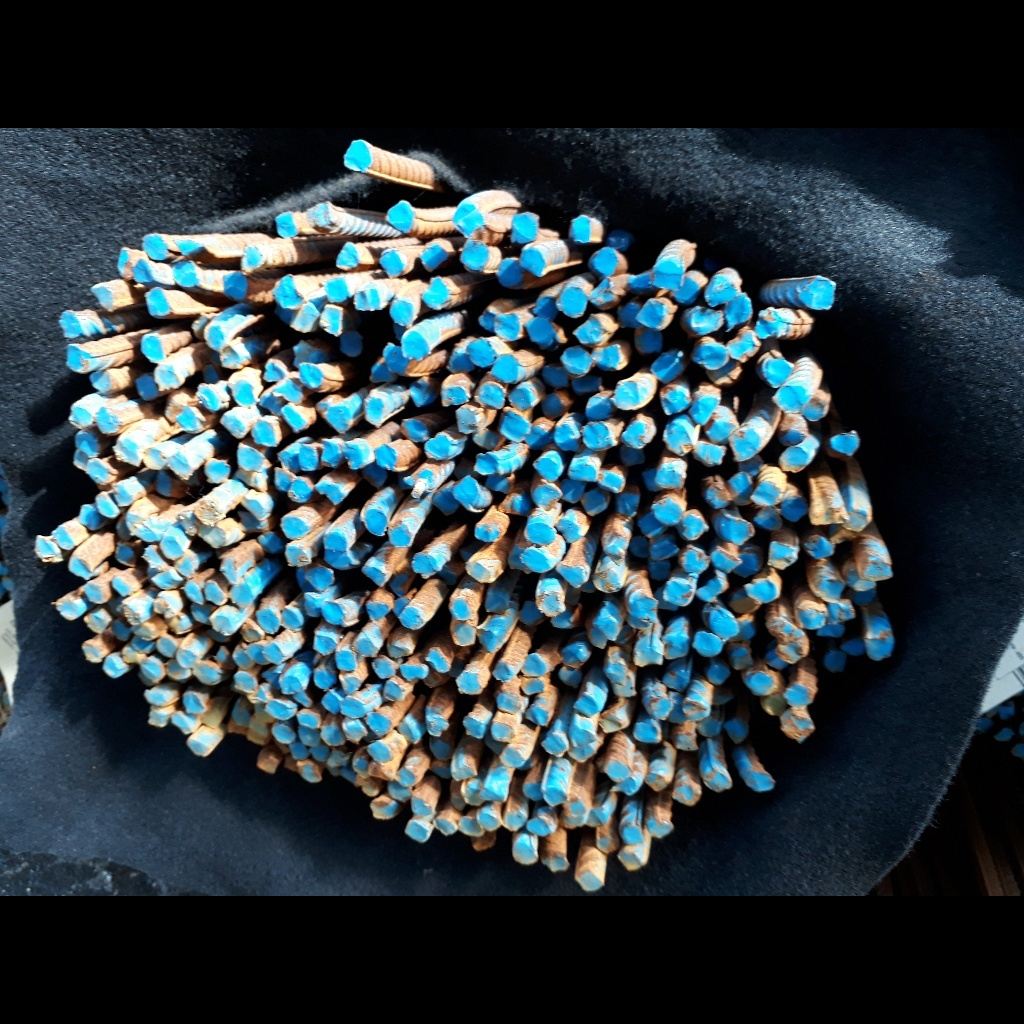dipstick: (769, 619, 810, 664), (799, 274, 837, 312), (689, 384, 722, 427), (704, 405, 740, 442), (636, 299, 678, 330), (727, 326, 763, 362), (754, 307, 792, 340), (593, 603, 625, 642), (673, 271, 709, 305), (611, 380, 649, 411), (696, 569, 730, 603), (272, 275, 305, 309), (724, 291, 752, 331), (703, 275, 738, 307), (685, 306, 723, 335), (728, 428, 761, 461), (692, 342, 729, 371), (280, 401, 317, 430), (555, 287, 587, 319), (499, 411, 531, 443), (344, 440, 377, 471), (649, 354, 684, 383), (571, 315, 606, 344), (237, 444, 272, 473), (659, 385, 691, 416), (722, 515, 755, 545), (569, 215, 602, 245), (524, 318, 557, 348), (781, 713, 815, 742), (621, 420, 655, 449), (560, 347, 594, 376), (112, 478, 146, 507), (727, 470, 755, 505), (778, 413, 809, 444), (508, 213, 539, 244), (762, 358, 794, 388), (662, 424, 692, 456), (589, 343, 623, 371), (387, 198, 415, 232), (773, 386, 808, 413), (692, 441, 727, 468), (767, 540, 798, 570), (113, 438, 144, 468), (489, 355, 521, 384), (460, 238, 489, 270), (710, 546, 743, 574), (677, 544, 710, 572), (241, 493, 275, 520), (433, 482, 459, 517), (289, 303, 319, 333), (588, 247, 619, 276), (467, 338, 498, 367), (343, 140, 372, 171), (588, 275, 616, 307), (194, 496, 226, 524), (518, 247, 547, 277), (453, 477, 482, 507), (89, 281, 117, 312), (399, 417, 431, 444), (650, 264, 683, 290), (803, 391, 831, 421), (423, 279, 451, 309), (219, 409, 247, 439), (54, 597, 89, 621), (830, 430, 861, 457), (678, 514, 709, 541), (87, 458, 118, 485), (803, 535, 835, 561), (236, 467, 268, 493), (581, 424, 614, 449), (743, 580, 777, 604), (661, 632, 690, 660), (397, 715, 425, 744), (334, 242, 362, 271), (251, 419, 279, 448), (221, 271, 249, 300), (731, 586, 761, 613), (554, 423, 581, 453), (492, 313, 522, 340), (402, 330, 429, 360), (409, 379, 436, 409), (153, 590, 183, 617), (638, 512, 669, 538), (555, 562, 586, 588), (542, 392, 573, 418), (155, 473, 186, 499), (692, 632, 724, 657), (383, 344, 408, 376), (496, 259, 524, 287), (229, 378, 257, 406), (420, 243, 447, 272), (324, 405, 353, 432), (141, 233, 168, 262), (523, 522, 557, 545), (752, 506, 782, 532), (561, 643, 591, 669), (750, 482, 781, 507), (663, 580, 694, 605), (520, 548, 551, 573), (454, 404, 479, 435), (707, 362, 742, 384), (654, 465, 686, 489), (651, 501, 683, 525), (321, 304, 344, 337), (84, 607, 112, 634), (672, 782, 702, 807), (633, 720, 663, 745), (306, 567, 336, 592), (306, 202, 336, 227), (174, 259, 199, 289), (498, 492, 529, 516), (191, 661, 222, 685), (271, 379, 303, 402), (458, 211, 485, 238), (195, 383, 222, 410), (166, 451, 193, 478), (174, 549, 201, 576), (74, 431, 101, 458), (779, 446, 807, 472), (634, 327, 662, 353), (533, 457, 561, 483), (536, 590, 564, 616), (746, 671, 775, 696), (314, 481, 343, 506), (166, 393, 191, 422), (796, 605, 826, 629), (363, 396, 387, 426), (846, 567, 877, 590), (815, 578, 846, 601), (533, 485, 564, 508), (238, 510, 269, 533), (860, 558, 892, 580), (810, 506, 847, 525), (864, 636, 891, 662), (733, 551, 759, 578), (556, 518, 583, 544), (479, 383, 506, 409), (423, 433, 450, 459), (144, 288, 170, 315), (153, 366, 180, 392), (95, 406, 121, 433), (592, 568, 620, 593), (594, 824, 619, 852), (390, 298, 415, 326), (410, 553, 438, 578), (380, 250, 405, 278), (239, 244, 264, 272), (204, 458, 232, 483), (122, 599, 150, 624), (600, 532, 629, 556), (471, 451, 500, 475), (60, 307, 82, 338), (760, 691, 786, 717), (581, 490, 607, 516), (519, 600, 545, 626), (362, 510, 388, 536), (428, 734, 454, 760), (585, 396, 612, 421), (615, 490, 640, 517), (423, 713, 450, 738), (255, 608, 280, 635), (199, 524, 226, 549), (140, 335, 165, 362), (64, 344, 89, 371), (780, 498, 808, 522), (783, 683, 811, 707), (631, 596, 659, 620), (455, 671, 483, 695), (374, 443, 398, 471), (299, 361, 323, 389), (293, 341, 321, 365), (264, 698, 296, 719), (96, 490, 120, 518), (141, 545, 169, 569), (33, 535, 61, 559), (203, 322, 226, 351), (142, 686, 177, 705), (649, 540, 680, 561), (654, 586, 680, 611), (451, 622, 477, 647), (342, 718, 367, 744), (706, 482, 730, 509), (598, 709, 625, 733), (218, 343, 242, 370), (597, 470, 625, 493), (576, 869, 604, 892), (543, 366, 571, 389), (826, 599, 855, 621), (279, 442, 301, 471), (633, 646, 663, 667), (440, 385, 470, 406), (279, 517, 309, 538), (748, 769, 773, 794), (603, 661, 628, 686), (560, 478, 585, 503), (508, 387, 533, 412), (366, 711, 391, 736), (321, 601, 346, 626), (714, 614, 740, 638), (723, 720, 747, 746), (426, 648, 450, 674), (142, 445, 166, 471), (141, 657, 167, 681), (81, 638, 105, 664), (67, 405, 93, 429), (541, 734, 568, 757), (367, 740, 394, 763), (340, 330, 363, 357), (705, 770, 733, 792), (464, 561, 492, 583), (246, 682, 274, 704), (78, 503, 100, 531), (568, 462, 597, 483), (405, 819, 430, 843), (373, 656, 398, 680), (258, 531, 283, 555), (171, 711, 196, 735), (619, 302, 642, 328), (524, 704, 550, 727), (276, 212, 299, 238), (85, 581, 111, 604), (135, 374, 158, 400), (828, 522, 855, 544), (386, 524, 413, 546), (133, 522, 160, 544), (682, 702, 713, 721), (405, 470, 436, 489), (299, 442, 318, 473), (353, 289, 381, 310), (541, 853, 570, 873), (574, 693, 598, 717), (534, 295, 559, 318), (525, 426, 550, 449), (472, 427, 497, 450), (288, 479, 313, 502), (204, 581, 227, 606), (148, 705, 173, 728), (550, 607, 576, 629), (521, 654, 547, 676), (512, 843, 538, 865), (264, 360, 290, 382), (246, 720, 268, 746), (102, 656, 128, 678), (54, 524, 76, 550), (567, 744, 597, 763), (617, 850, 644, 871), (339, 697, 366, 718), (185, 737, 212, 758), (662, 671, 690, 691), (303, 590, 323, 618), (352, 748, 370, 779), (562, 794, 586, 817), (477, 628, 500, 652), (370, 797, 394, 820), (273, 468, 297, 491), (132, 259, 155, 283), (177, 408, 201, 431), (159, 536, 182, 560), (68, 556, 92, 579), (572, 374, 601, 393), (628, 271, 653, 293), (570, 724, 595, 746), (500, 746, 525, 768), (399, 606, 424, 628), (362, 565, 387, 587), (286, 546, 311, 568), (297, 761, 322, 783), (201, 703, 223, 728), (844, 510, 870, 531), (696, 716, 722, 737), (464, 779, 485, 805), (433, 815, 459, 836), (296, 708, 322, 729), (178, 510, 199, 536), (618, 446, 645, 466), (647, 819, 674, 839), (458, 816, 485, 836), (325, 550, 352, 570), (220, 557, 240, 584), (175, 237, 205, 255), (322, 532, 350, 551), (120, 645, 148, 664), (730, 646, 753, 669), (233, 670, 256, 693), (168, 611, 191, 634), (115, 543, 138, 566), (731, 618, 755, 640), (559, 666, 583, 688), (502, 809, 526, 831), (281, 606, 305, 628), (314, 634, 338, 656), (190, 602, 214, 624), (155, 636, 179, 658), (669, 693, 686, 724), (605, 761, 630, 782), (490, 721, 515, 742), (449, 599, 474, 620), (370, 362, 395, 383), (297, 726, 322, 747), (166, 659, 191, 680), (611, 677, 637, 697), (541, 787, 567, 807), (525, 817, 551, 837), (475, 523, 501, 543), (448, 353, 474, 373), (452, 203, 478, 223), (181, 692, 207, 712), (116, 248, 133, 278), (152, 570, 182, 587), (383, 679, 405, 702), (261, 391, 284, 413), (321, 690, 343, 713), (706, 664, 730, 685), (629, 536, 650, 560), (521, 676, 549, 694), (497, 692, 521, 713), (333, 650, 357, 671), (321, 726, 345, 747), (90, 369, 111, 393), (738, 455, 763, 475), (646, 770, 668, 792), (586, 806, 608, 828), (175, 646, 197, 668), (823, 651, 846, 672), (767, 650, 790, 671), (464, 716, 485, 739), (390, 572, 411, 595), (190, 314, 210, 338), (365, 600, 390, 619), (272, 725, 297, 744), (241, 623, 266, 642), (673, 734, 699, 752), (493, 661, 515, 682), (587, 626, 607, 649), (394, 767, 417, 787), (112, 618, 132, 641), (842, 637, 866, 656), (608, 230, 632, 249), (256, 755, 280, 774), (471, 831, 496, 849), (387, 640, 412, 658), (850, 587, 876, 604), (440, 563, 462, 583), (389, 782, 411, 802), (279, 675, 301, 695), (486, 473, 509, 492), (232, 650, 255, 669), (185, 581, 204, 604), (478, 813, 502, 831), (367, 763, 392, 780), (816, 622, 844, 637), (652, 699, 673, 719), (650, 561, 671, 581), (400, 665, 430, 679), (263, 643, 284, 663), (621, 825, 643, 844), (313, 669, 335, 688), (245, 645, 267, 664), (263, 667, 281, 690), (480, 787, 507, 802), (113, 576, 133, 596), (618, 778, 639, 797), (486, 593, 507, 612), (309, 743, 330, 762), (712, 686, 734, 704), (131, 622, 153, 640), (410, 798, 433, 815), (327, 750, 350, 767), (559, 813, 585, 828), (453, 765, 477, 781), (296, 565, 312, 589), (293, 689, 313, 708), (212, 616, 232, 635), (125, 510, 143, 531), (643, 469, 660, 491), (425, 671, 448, 687), (524, 782, 543, 801), (485, 735, 504, 754), (477, 309, 496, 328), (450, 792, 468, 812), (233, 706, 251, 726), (131, 637, 155, 652), (340, 676, 361, 693), (229, 585, 250, 602), (202, 362, 219, 383), (392, 596, 410, 615), (290, 742, 309, 759), (628, 616, 651, 629), (73, 448, 87, 469), (226, 721, 247, 734), (214, 644, 229, 662)
